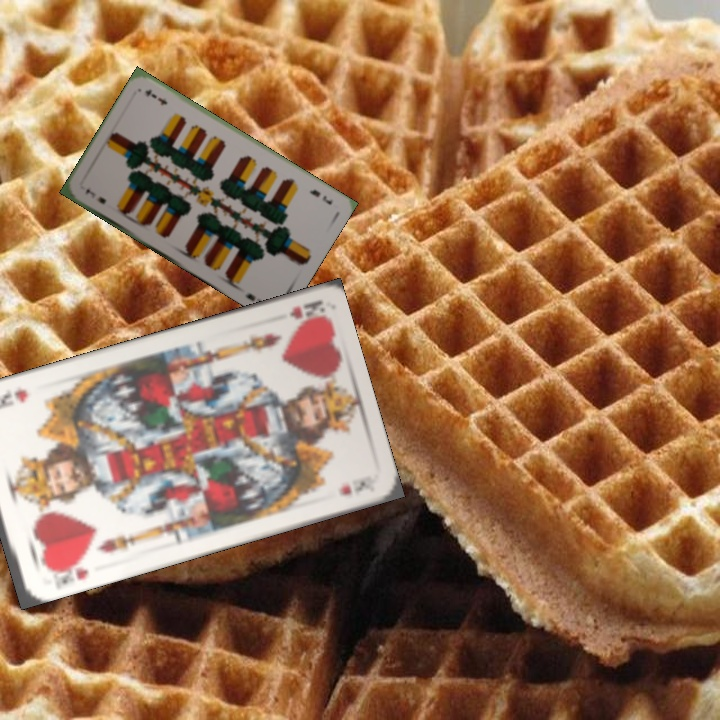E7: (305, 185, 335, 207), (81, 185, 109, 207)
HK: (44, 554, 91, 587), (286, 296, 324, 325)
